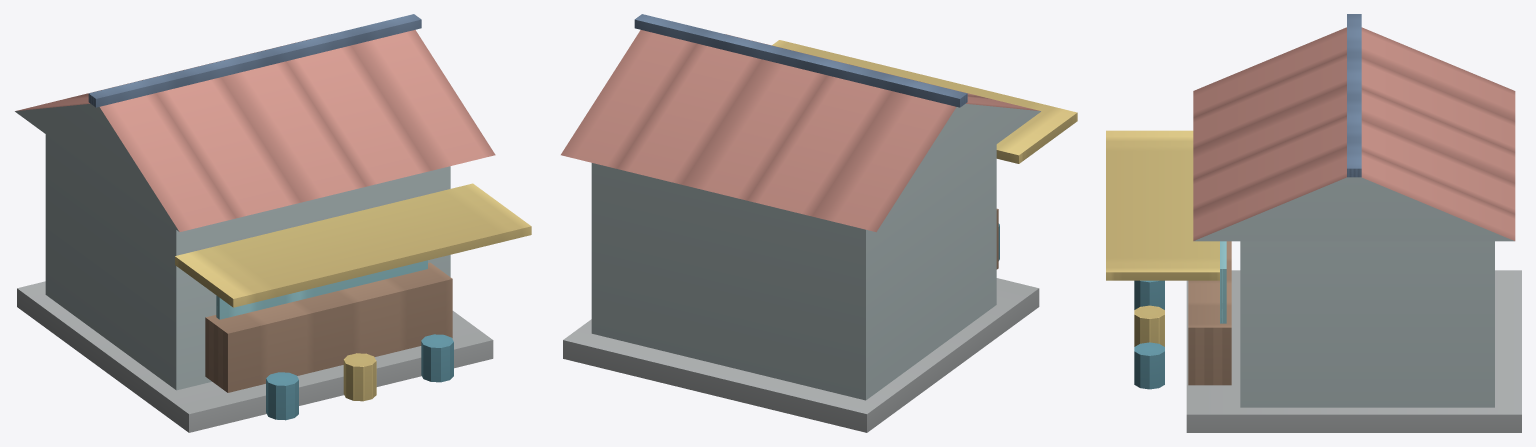
Rendered from market_kiosk.glb.
3 renders of one model, left to right at view 1: azimuth 30°, elevation 25°; view 2: azimuth 150°, elevation 25°; view 3: azimuth 270°, elevation 25°, orthographic. The views are drawn at different scales.
Parts seen in each view (by area): view 1: market_kiosk; view 2: market_kiosk; view 3: market_kiosk.
Part boxes in pixels (left/top/right/bottom): market_kiosk: left=15, top=14, right=531, bottom=432; market_kiosk: left=561, top=14, right=1077, bottom=432; market_kiosk: left=1106, top=14, right=1521, bottom=432.
Size of the model in its own units: 5.46 by 4.43 by 6.2.
Materials: 1 (1 with a texture image).
